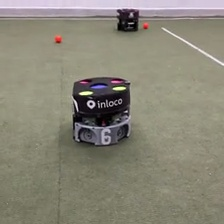ball: (55, 33, 62, 43), (142, 21, 149, 29)
robot: (70, 74, 133, 146), (114, 5, 140, 33)
